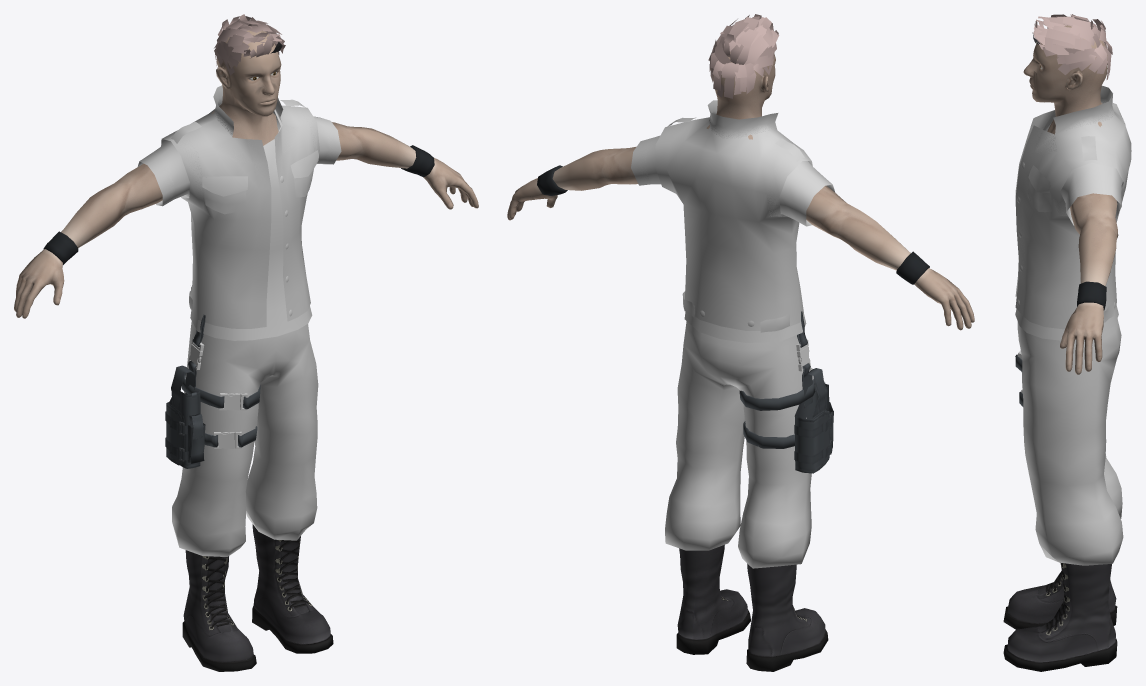
The model's file is Character.fbx.
The picture shows the model from 3 angles, left to right: view 1: azimuth 30°, elevation 25°; view 2: azimuth 150°, elevation 25°; view 3: azimuth 270°, elevation 25°; orthographic projection.
Parts seen in each view (by area): view 1: espalda_ilp, brazoslp; view 2: espalda_ilp, brazoslp; view 3: espalda_ilp, brazoslp.
Boxes of the visible parts, x1,y1,x2,y2 form: espalda_ilp: (137,85,341,556); brazoslp: (14,14,478,671); espalda_ilp: (631,100,835,568); brazoslp: (507,14,974,671); espalda_ilp: (1015,85,1131,565); brazoslp: (1003,14,1118,671).
Size of the model in its own units: 1.48 by 1.91 by 0.3554.
